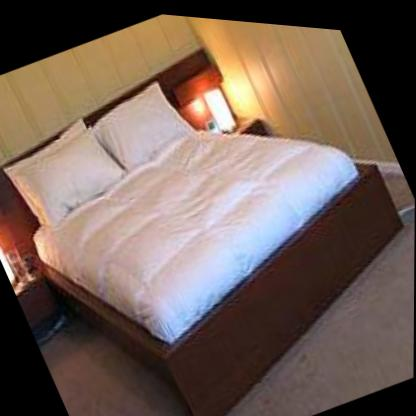Bed: (3, 75, 404, 416)
